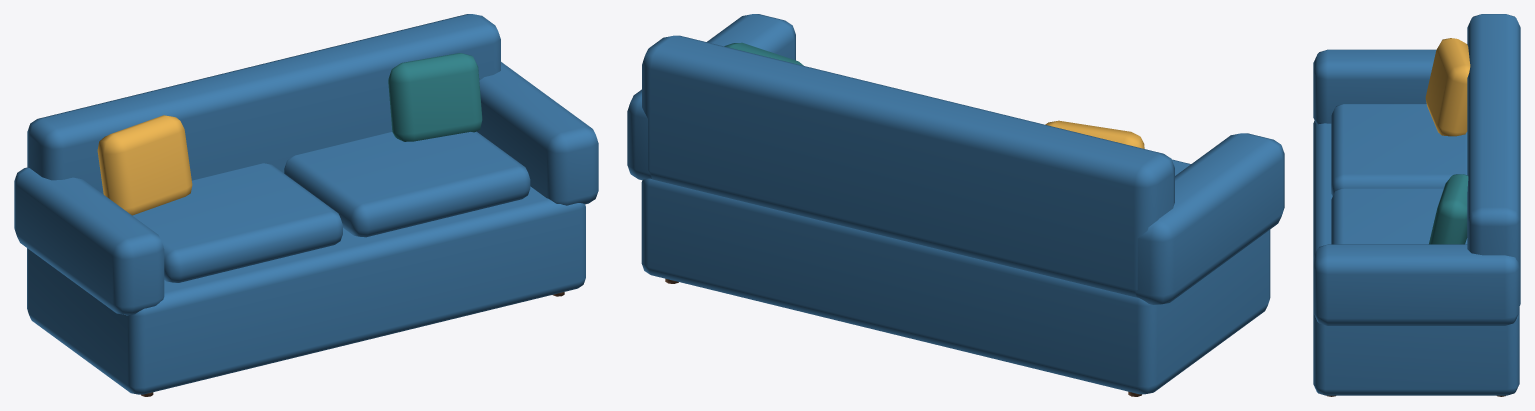
The model's file is Sofa.fbx.
3 views of the same model, side by side, from view 1: azimuth 30°, elevation 25°; view 2: azimuth 150°, elevation 25°; view 3: azimuth 270°, elevation 25° (orthographic). The views are drawn at different scales.
Visible parts, largest first — view 1: SofaBody; view 2: SofaBody; view 3: SofaBody.
Boxes of the visible parts, x1,y1,x2,y2 form: SofaBody: [14, 14, 598, 396]; SofaBody: [627, 14, 1284, 396]; SofaBody: [1313, 14, 1520, 396].
Size of the model in its own units: 2.12 by 0.87 by 0.855.
